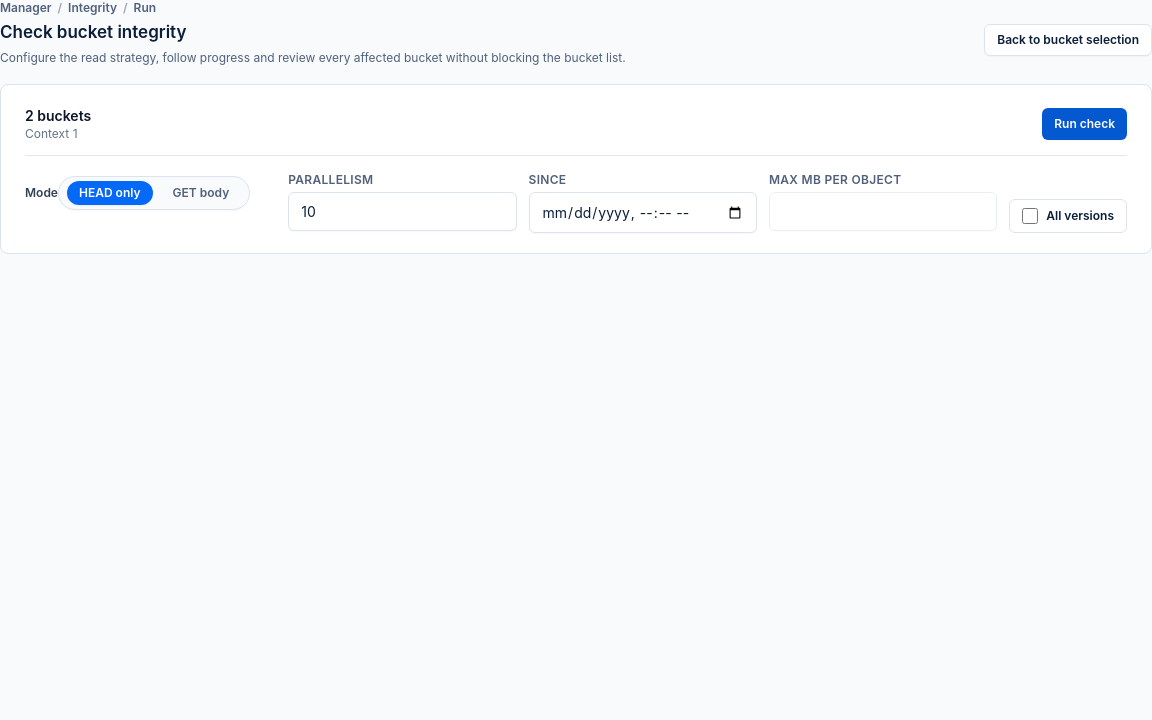
Test: BucketIntegrityCheckModal results › renders expandable bucket details with affected object rows
Click the button "Run check" at x=1085, y=124, box [1042,108,1127,140]
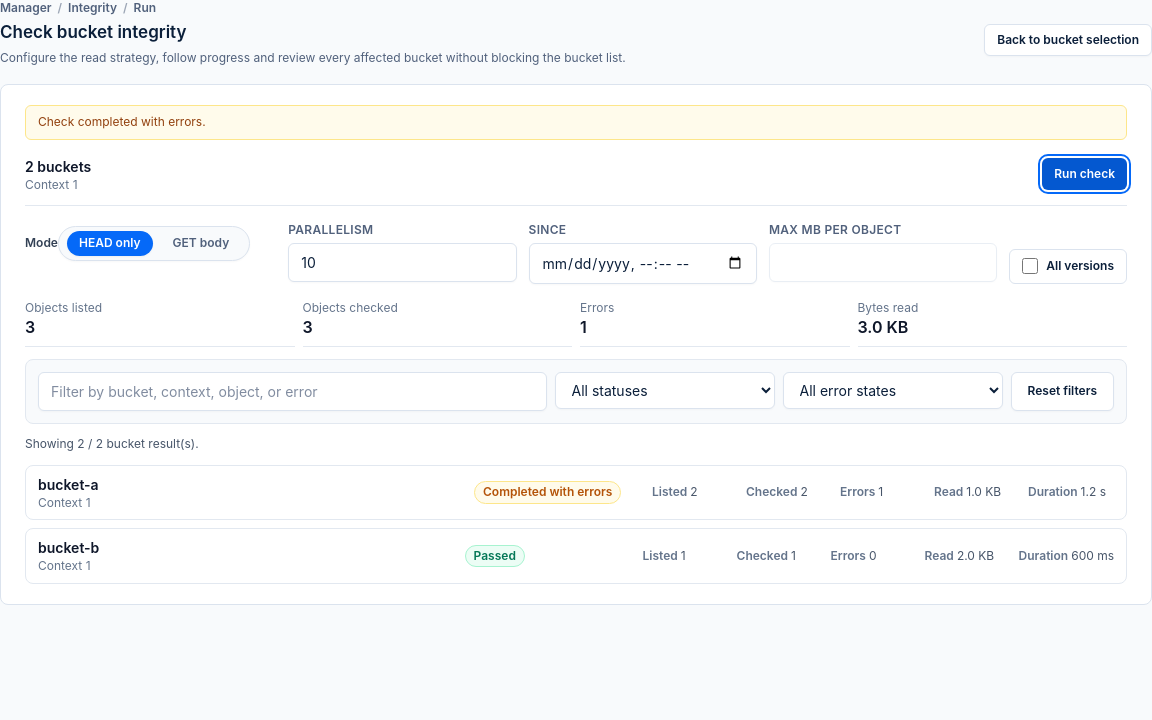
Expected: the text "Showing 2 / 2 bucket result(s)." is shown, [25,436,199,451]
Click the text "bucket-a" at x=68, y=484, box [38,476,99,492]
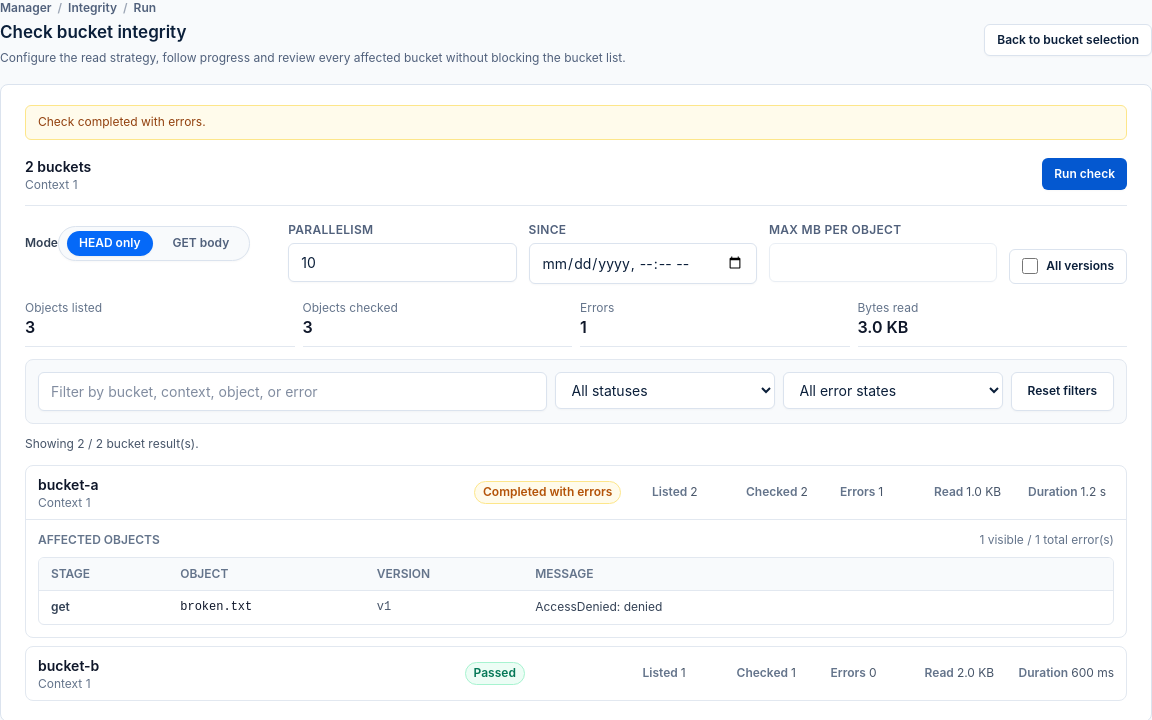
Expected: the text "Affected objects" is shown, [38,532,160,548]
Expected: the text "broken.txt" is shown, [168,590,365,624]
Expected: the text "v1" is shown, [365,590,523,624]
